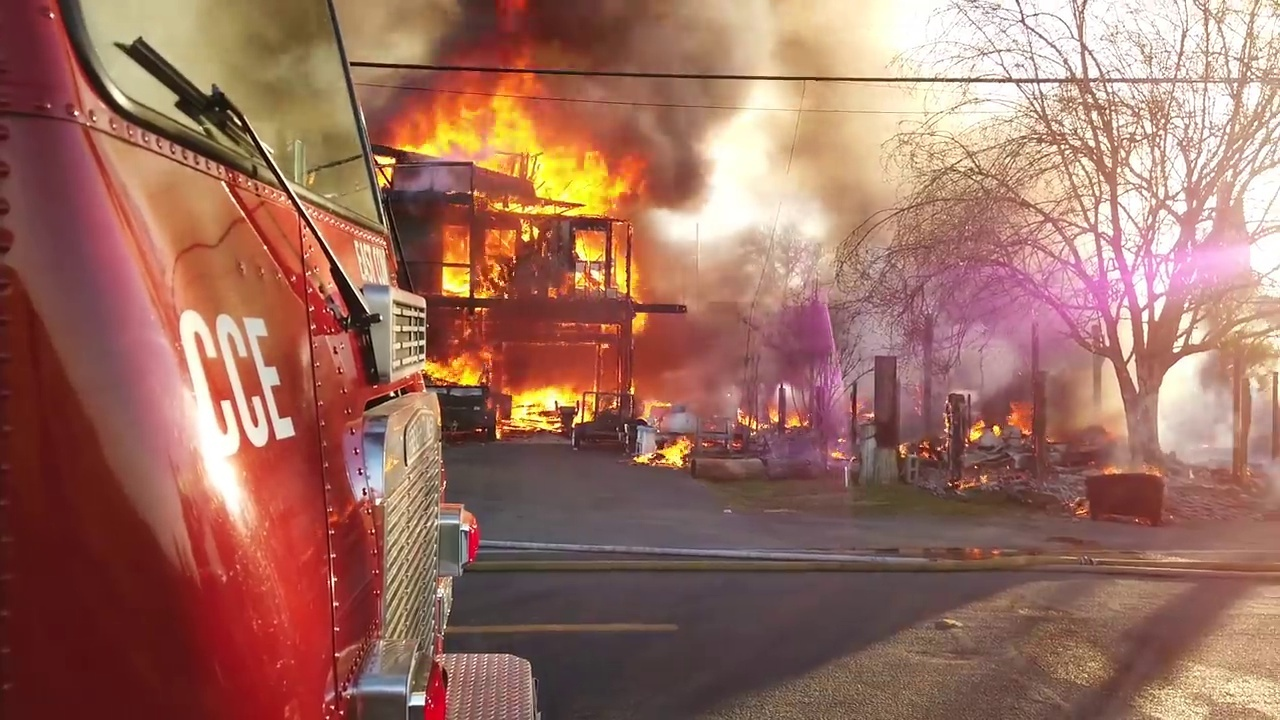fire: (390, 64, 639, 297), (502, 377, 597, 429), (962, 406, 1029, 445), (568, 226, 605, 287), (634, 433, 694, 466), (734, 404, 809, 428), (634, 388, 666, 417), (949, 471, 991, 487), (901, 437, 934, 455), (1143, 461, 1164, 474), (1099, 461, 1123, 472)
smoke: (624, 1, 885, 403)
